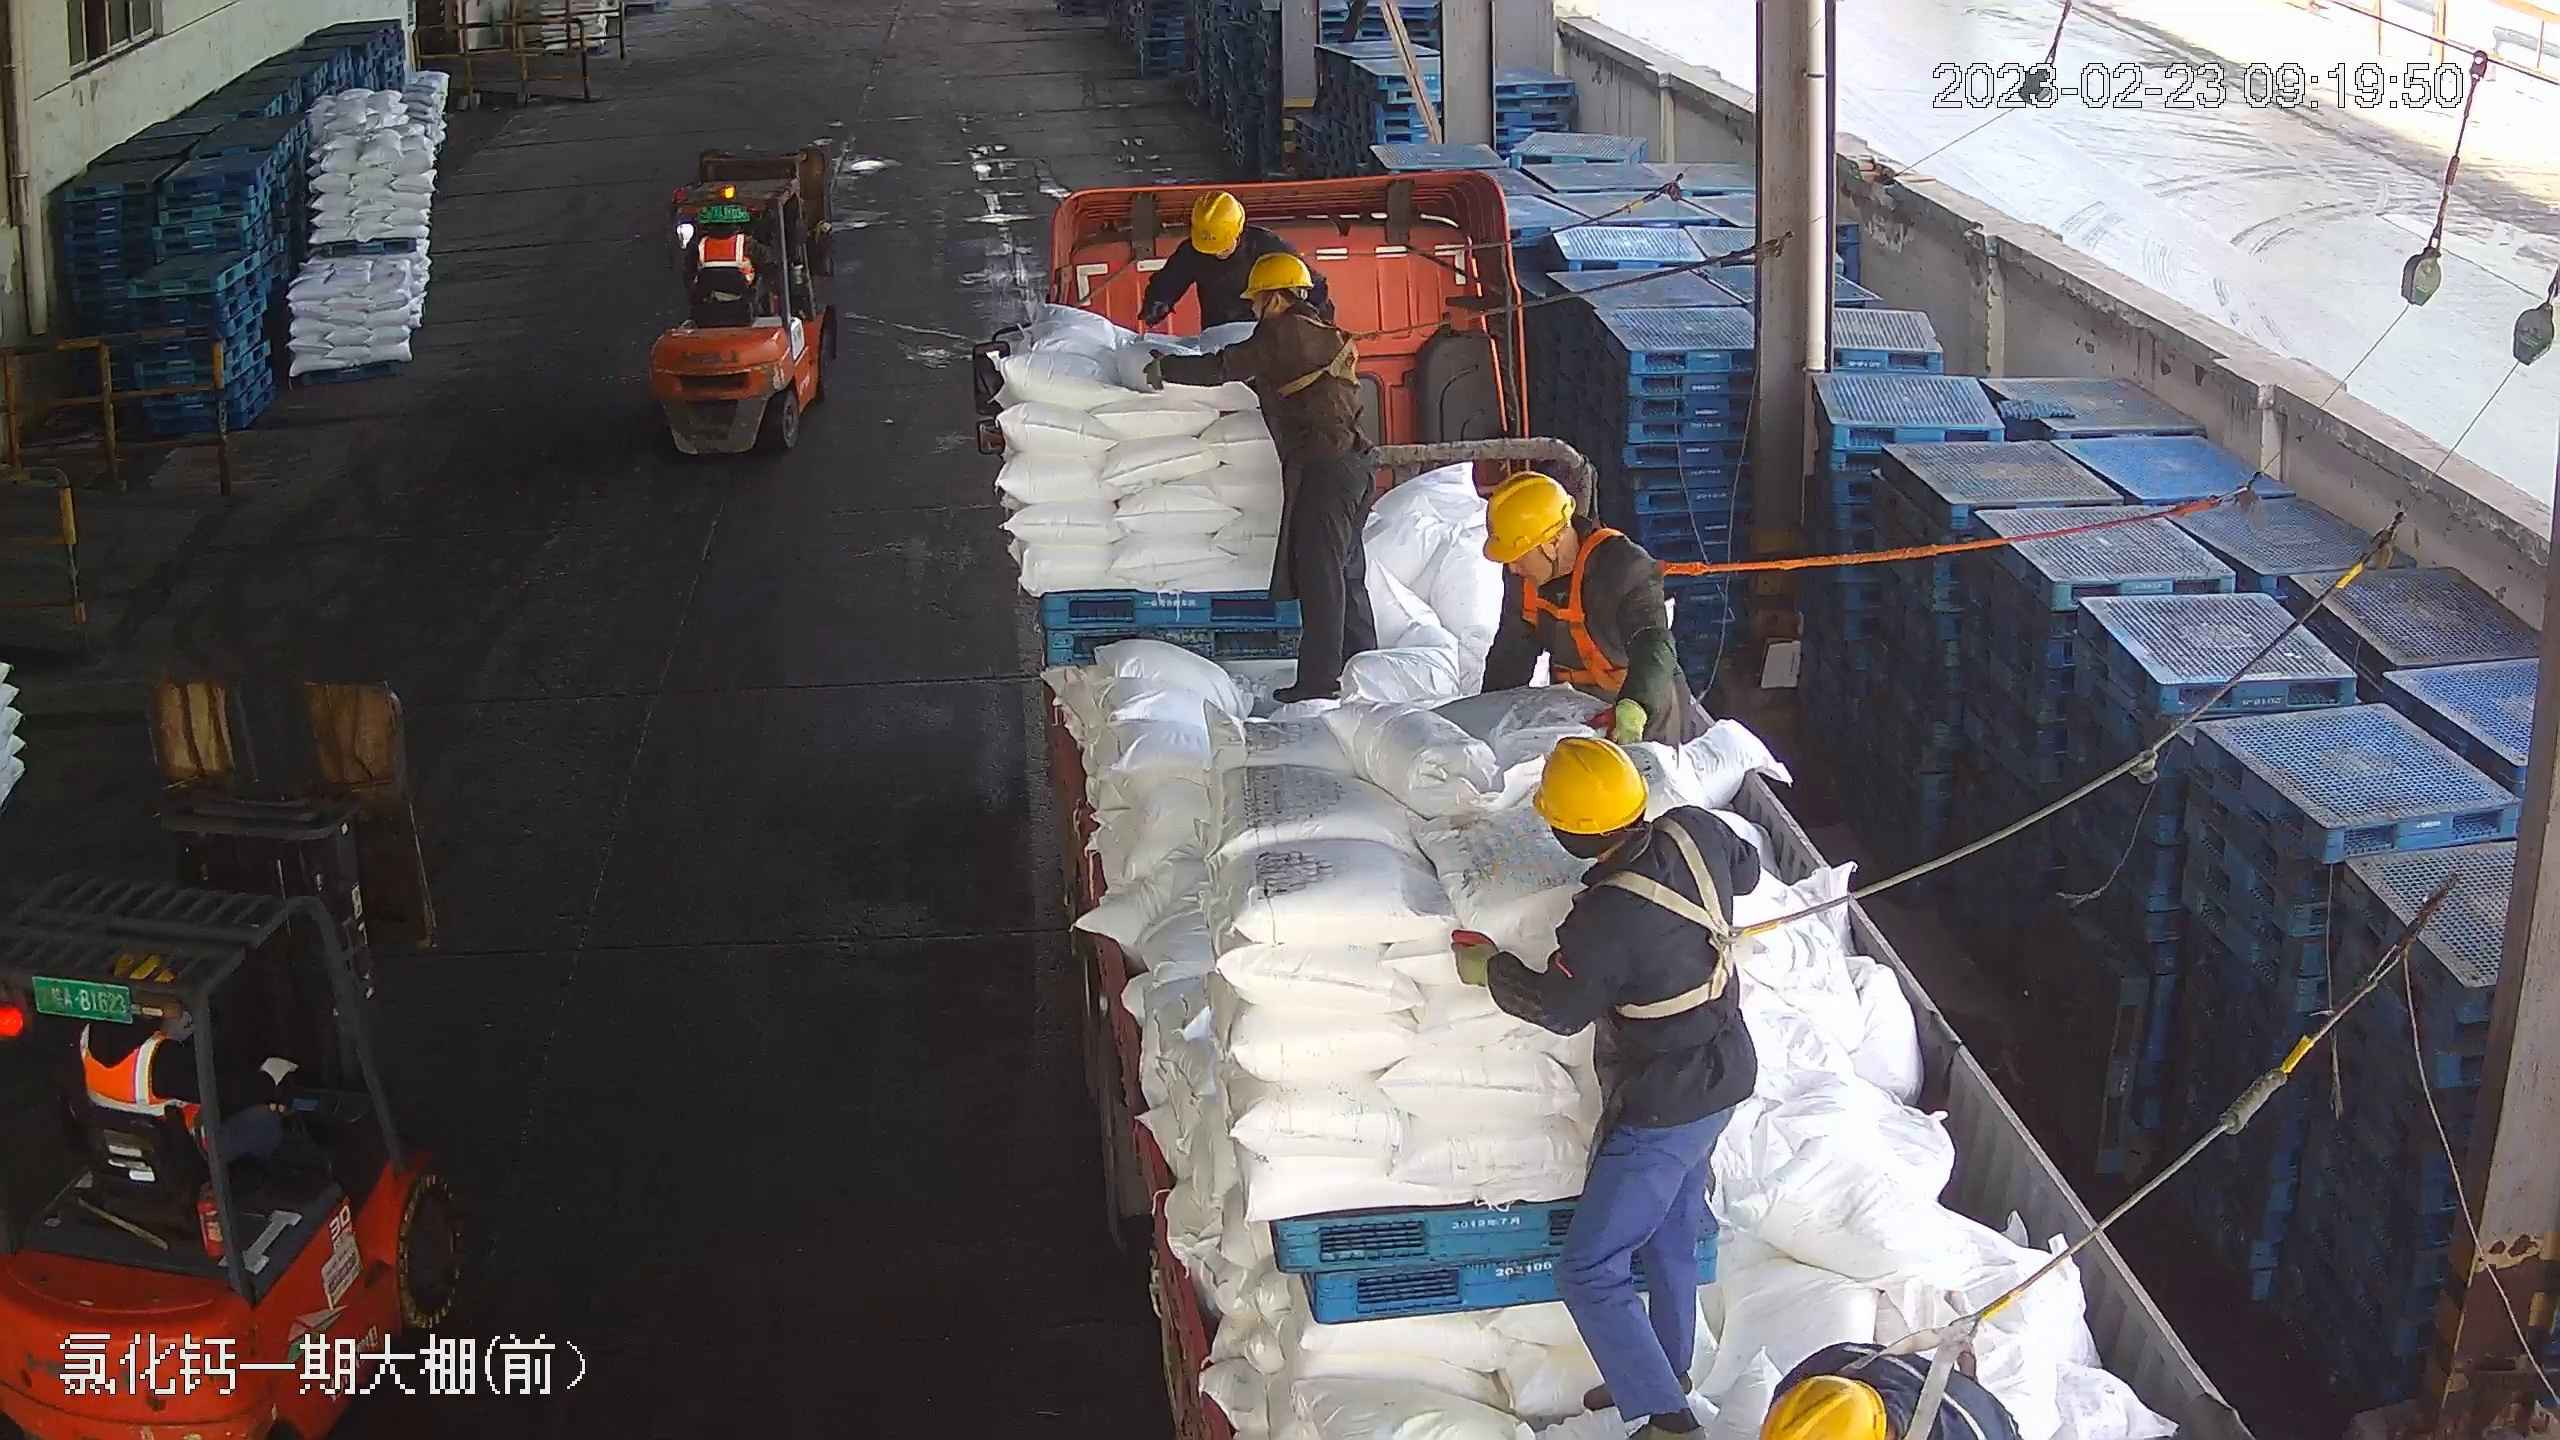belt: (1597, 824, 1778, 1024), (1517, 528, 1681, 683), (1848, 1281, 2028, 1413), (1270, 310, 1378, 402)
head: (1532, 732, 1738, 943), (1478, 471, 1657, 630), (1236, 255, 1351, 369), (1172, 191, 1278, 281)
helmet: (1531, 732, 1646, 832), (1482, 472, 1573, 563), (1761, 1372, 1885, 1439), (1244, 248, 1311, 298), (1192, 190, 1244, 251)
people: (1445, 728, 1755, 1436), (1156, 256, 1379, 704)
truck: (984, 177, 2248, 1434)
